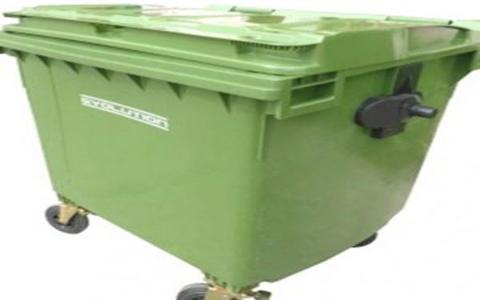Proper garbage: (4, 1, 479, 299)
